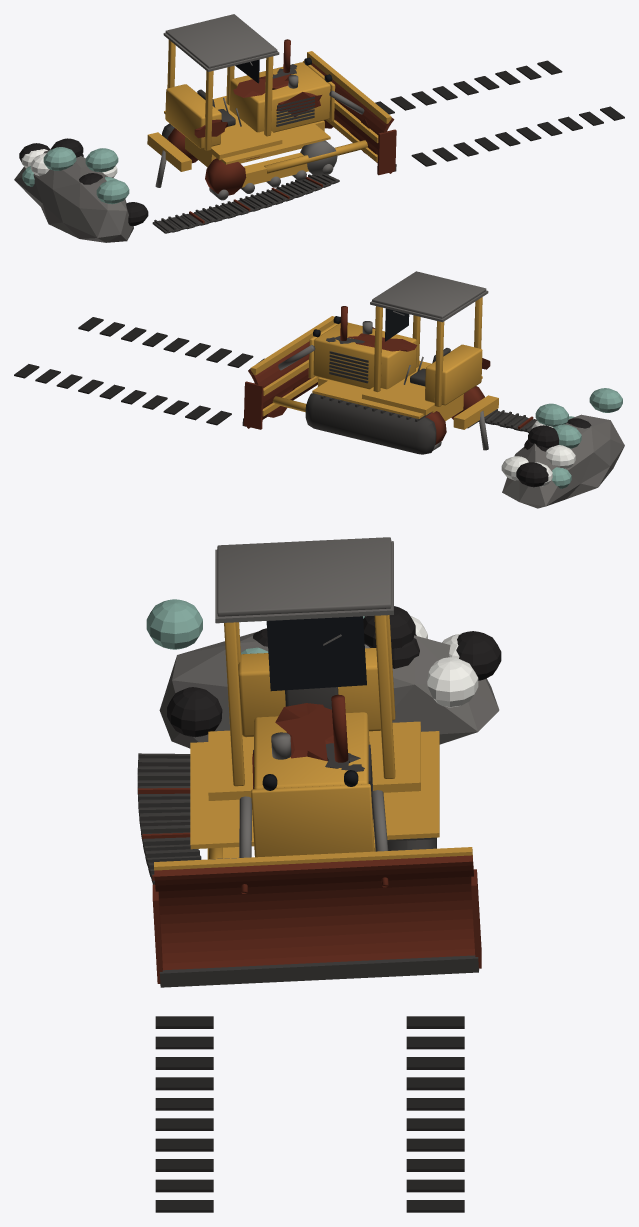
Rendered from landfill_dozer.glb.
3 views of the same model, one above another, from view 1: azimuth 30°, elevation 25°; view 2: azimuth 150°, elevation 25°; view 3: azimuth 270°, elevation 25° (orthographic). The views are drawn at different scales.
Visible parts, largest first — view 1: landfill_dozer; view 2: landfill_dozer; view 3: landfill_dozer.
Boxes of the visible parts, <box> form: landfill_dozer: <box>14,14,624,242</box>; landfill_dozer: <box>14,271,624,508</box>; landfill_dozer: <box>137,537,501,1212</box>.
Bounding box in the file's own units: 12.8 × 3.38 × 3.76.
